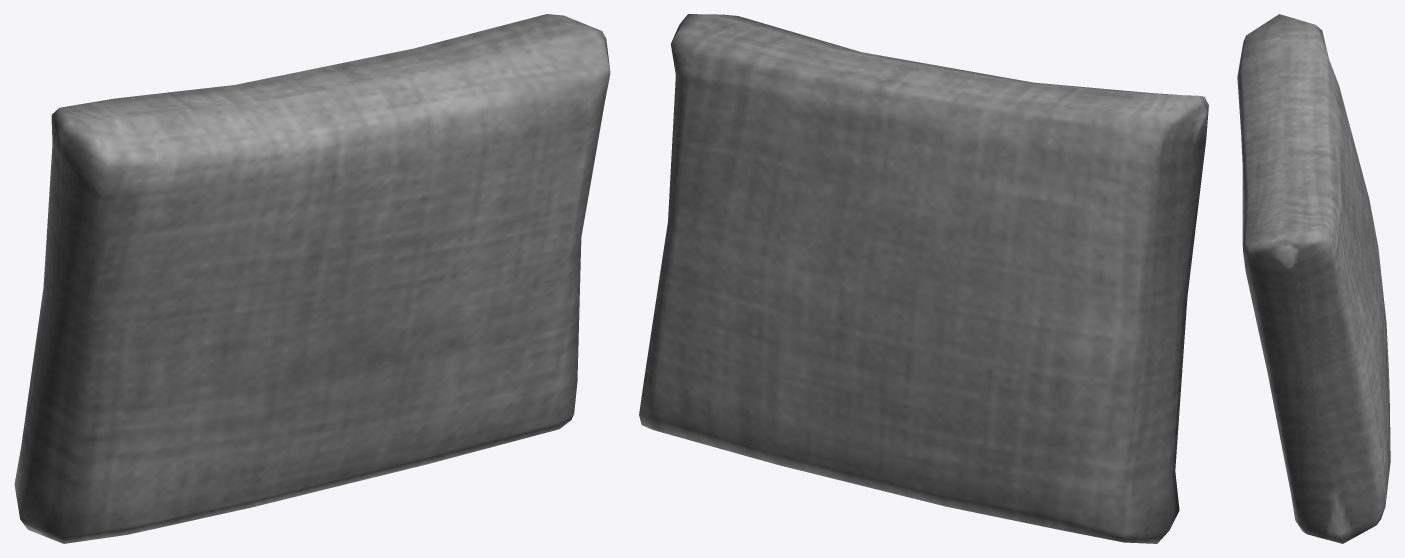
The model's file is Cushion 2.FBX.
3 renders of one model, left to right at view 1: azimuth 30°, elevation 25°; view 2: azimuth 150°, elevation 25°; view 3: azimuth 270°, elevation 25°, orthographic. The views are drawn at different scales.
Visible parts, largest first — view 1: Cushion02; view 2: Cushion02; view 3: Cushion02.
Boxes of the visible parts, x1,y1,x2,y2 form: Cushion02: (14,14,610,543); Cushion02: (639,14,1208,543); Cushion02: (1237,14,1390,543).
Bounding box in the file's own units: 0.8047 × 0.6297 × 0.2581.
Materials: 1 (1 with a texture image).
